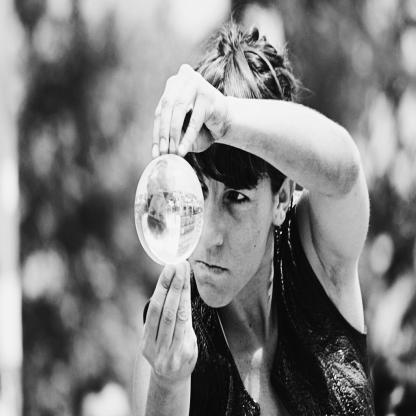Ball: (134, 153, 204, 269)
